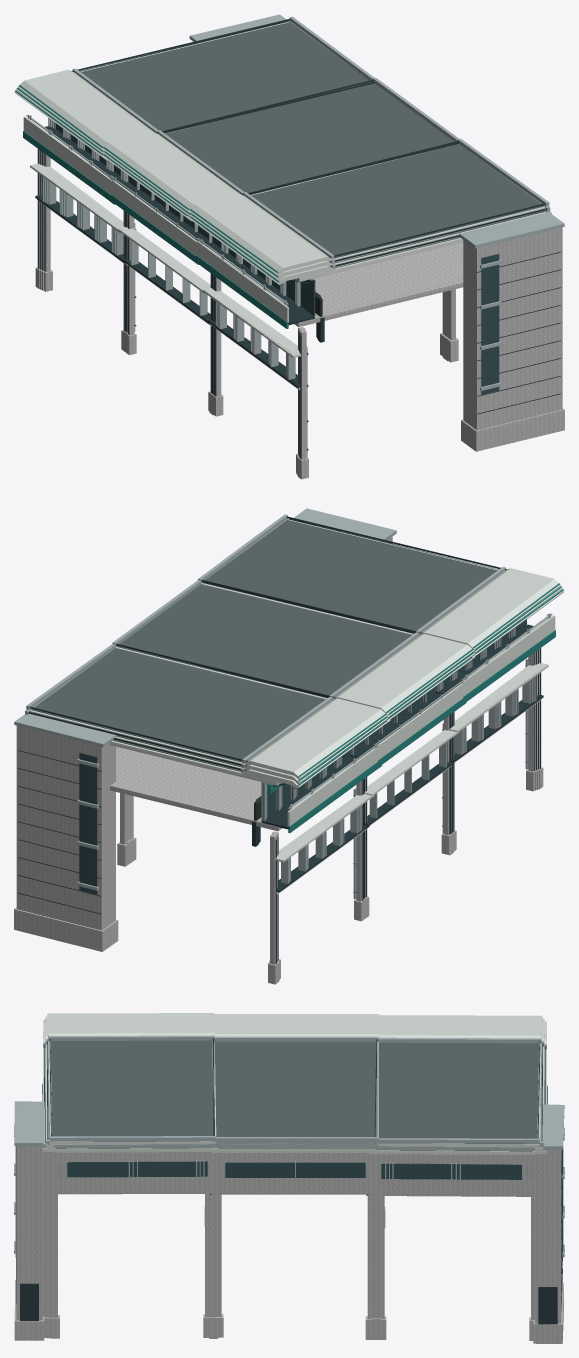
Rendered from aurel-hero-pit-building-frontage.glb.
3 views of the same model, one above another, from view 1: azimuth 30°, elevation 25°; view 2: azimuth 150°, elevation 25°; view 3: azimuth 270°, elevation 25° (orthographic). The views are drawn at different scales.
Parts seen in each view (by area): view 1: A21_B_L1_A21_RoofMembrane, A21_B_L0_A21_RoofMembrane, A21_D_L0_A21_ArchitecturalConcrete, A21_B_L0_A21_CeramicCladding, A21_D_L1_A21_ArchitecturalConcrete, A21_A_L0_A21_ArchitecturalConcrete, A21_D_L0_A21_CeramicCladding, A21_D_L0_A21_BrushedAlloy, A21_A_L0_A21_CeramicCladding, A21_A_L1_A21_ArchitecturalConcrete, A21_B_L0_A21_BrushedAlloy, A21_D_L1_A21_CeramicCladding (+24 smaller); view 2: A21_B_L0_A21_RoofMembrane, A21_B_L1_A21_RoofMembrane, A21_A_L0_A21_ArchitecturalConcrete, A21_B_L0_A21_CeramicCladding, A21_A_L1_A21_ArchitecturalConcrete, A21_D_L1_A21_ArchitecturalConcrete, A21_D_L0_A21_CeramicCladding, A21_D_L0_A21_ArchitecturalConcrete, A21_B_L0_A21_BrushedAlloy, A21_A_L0_A21_BrushedAlloy, A21_A_L1_A21_AnodizedSteel, A21_A_L0_A21_CeramicCladding (+24 smaller); view 3: A21_B_L0_A21_RoofMembrane, A21_B_L1_A21_RoofMembrane, A21_A_L0_A21_ArchitecturalConcrete, A21_A_L1_A21_ArchitecturalConcrete, A21_B_L0_A21_CeramicCladding, A21_A_L0_A21_SmokedGlazing, A21_D_L0_A21_ArchitecturalConcrete, A21_B_L0_A21_BrushedAlloy, A21_A_L1_A21_SmokedGlazing, A21_A_L0_A21_BrushedAlloy, A21_B_L1_A21_ArchitecturalConcrete, A21_D_L1_A21_ArchitecturalConcrete (+19 smaller).
Part boxes in pixels (x1,y1,x2,y2): A21_B_L1_A21_RoofMembrane: (81, 22, 544, 257); A21_B_L0_A21_RoofMembrane: (81, 22, 540, 258); A21_D_L0_A21_ArchitecturalConcrete: (35, 150, 564, 478); A21_B_L0_A21_CeramicCladding: (18, 22, 544, 353); A21_D_L1_A21_ArchitecturalConcrete: (35, 149, 564, 479); A21_A_L0_A21_ArchitecturalConcrete: (44, 154, 463, 472); A21_D_L0_A21_CeramicCladding: (14, 90, 462, 388); A21_D_L0_A21_BrushedAlloy: (42, 118, 563, 448); A21_A_L0_A21_CeramicCladding: (32, 120, 297, 351); A21_A_L1_A21_ArchitecturalConcrete: (44, 155, 463, 473); A21_B_L0_A21_BrushedAlloy: (30, 16, 548, 374); A21_D_L1_A21_CeramicCladding: (23, 116, 463, 390); A21_B_L0_A21_RoofMembrane: (32, 520, 496, 762); A21_B_L1_A21_RoofMembrane: (31, 520, 497, 762); A21_A_L0_A21_ArchitecturalConcrete: (14, 655, 534, 978); A21_B_L0_A21_CeramicCladding: (30, 519, 560, 795); A21_A_L1_A21_ArchitecturalConcrete: (14, 653, 535, 978); A21_D_L1_A21_ArchitecturalConcrete: (110, 536, 543, 984); A21_D_L0_A21_CeramicCladding: (110, 589, 564, 893); A21_D_L0_A21_ArchitecturalConcrete: (110, 537, 543, 983); A21_B_L0_A21_BrushedAlloy: (26, 514, 549, 868); A21_A_L0_A21_BrushedAlloy: (15, 632, 530, 890); A21_A_L1_A21_AnodizedSteel: (18, 627, 536, 960); A21_A_L0_A21_CeramicCladding: (279, 618, 547, 850); A21_B_L0_A21_RoofMembrane: (50, 1040, 538, 1143); A21_B_L1_A21_RoofMembrane: (50, 1040, 539, 1143); A21_A_L0_A21_ArchitecturalConcrete: (51, 1149, 563, 1343); A21_A_L1_A21_ArchitecturalConcrete: (51, 1149, 563, 1343); A21_B_L0_A21_CeramicCladding: (47, 1013, 542, 1147); A21_A_L0_A21_SmokedGlazing: (67, 1149, 562, 1260); A21_D_L0_A21_ArchitecturalConcrete: (15, 1147, 385, 1340); A21_B_L0_A21_BrushedAlloy: (48, 1035, 541, 1180); A21_A_L1_A21_SmokedGlazing: (67, 1148, 563, 1260); A21_A_L0_A21_BrushedAlloy: (54, 1105, 564, 1256); A21_B_L1_A21_ArchitecturalConcrete: (47, 1152, 539, 1339); A21_D_L1_A21_ArchitecturalConcrete: (14, 1146, 386, 1340).
Bounding box in the file's own units: 16.3 × 12.28 × 29.57.
9 materials, 1 textured.
